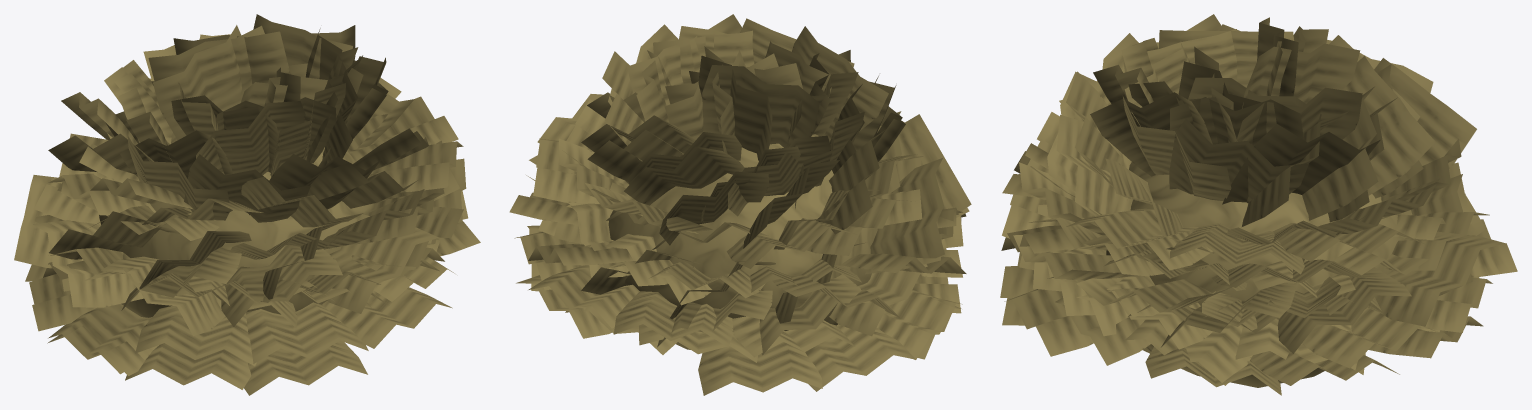
The model's file is coral23_FBX_still.fbx.
3 renders of one model, left to right at view 1: azimuth 30°, elevation 25°; view 2: azimuth 150°, elevation 25°; view 3: azimuth 270°, elevation 25°, orthographic. The views are drawn at different scales.
Parts seen in each view (by area): view 1: coral23_gameasset; view 2: coral23_gameasset; view 3: coral23_gameasset.
Boxes of the visible parts, box(x1,y1,x2,y2) form: coral23_gameasset: box(14, 14, 480, 395); coral23_gameasset: box(509, 14, 971, 395); coral23_gameasset: box(1000, 14, 1517, 395).
Size of the model in its own units: 1.65 by 1.11 by 1.62.
Materials: 1 (1 with a texture image).
